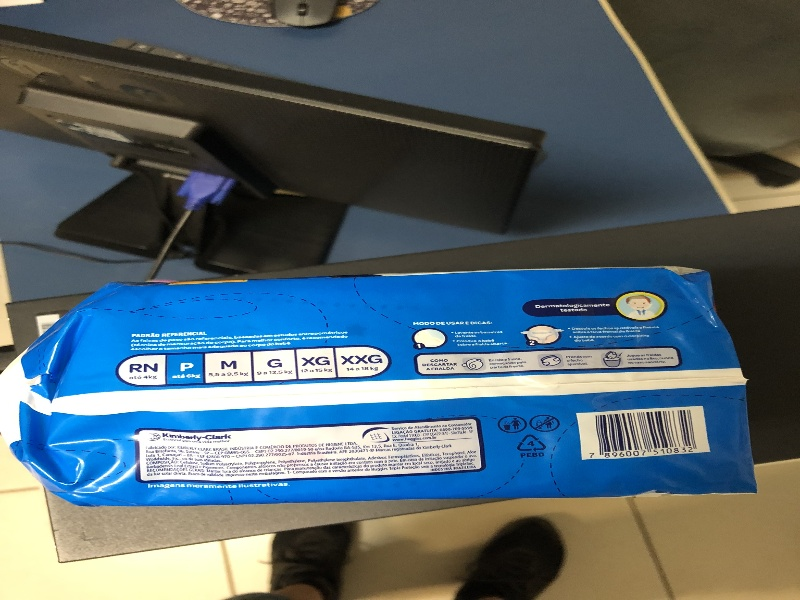fralda: (20, 269, 766, 498)
